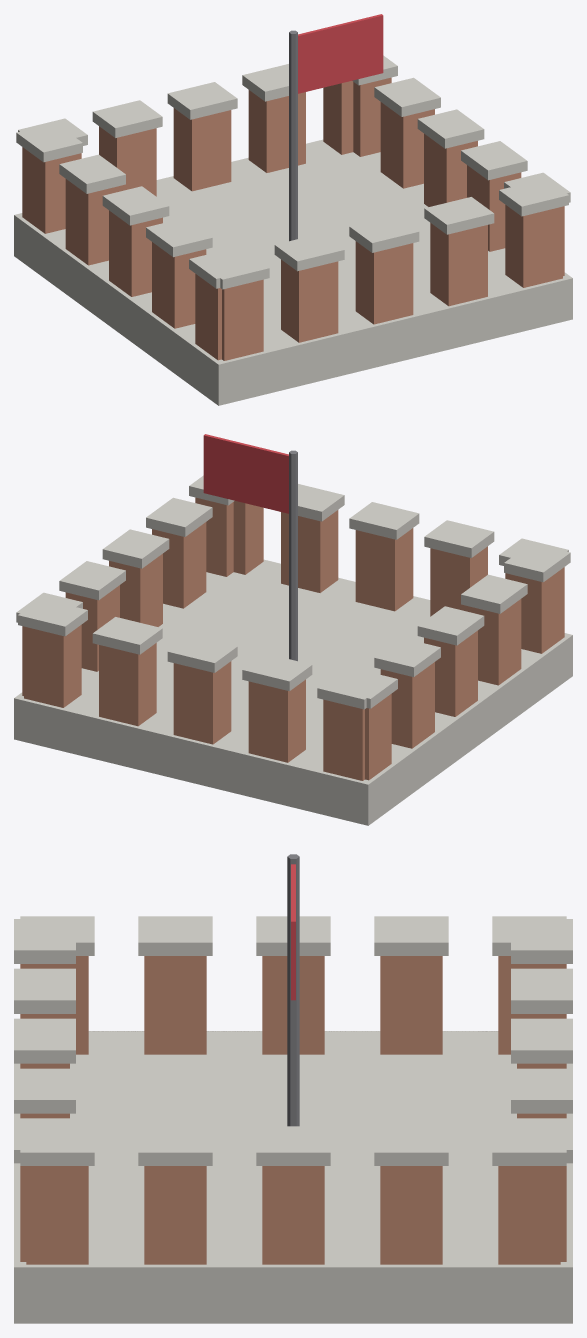
File: VN_Almenas.fbx
The picture shows the model from 3 angles, top to bottom: view 1: azimuth 30°, elevation 25°; view 2: azimuth 150°, elevation 25°; view 3: azimuth 270°, elevation 25°; orthographic projection. The views are drawn at different scales.
Parts seen in each view (by area): view 1: VN_Almenas; view 2: VN_Almenas; view 3: VN_Almenas.
Part boxes in pixels (x1=…): VN_Almenas: x1=14, y1=14, x2=572, y2=405; VN_Almenas: x1=14, y1=434, x2=572, y2=825; VN_Almenas: x1=14, y1=854, x2=572, y2=1323.
Size of the model in its own units: 4.5 by 3.1 by 4.5.
